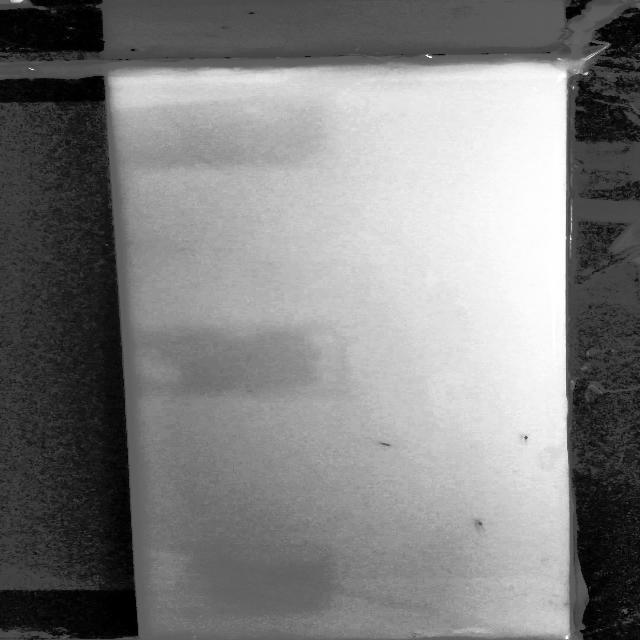shrimp: (472, 516, 499, 532), (514, 432, 538, 444), (375, 438, 403, 446)
